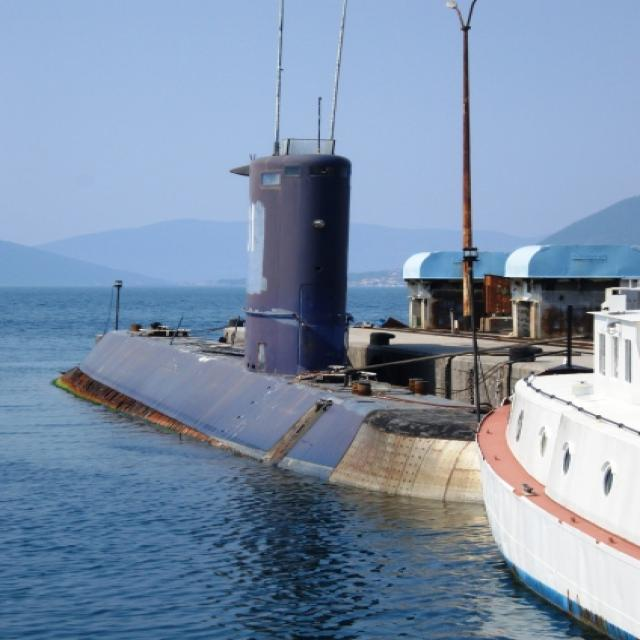submarine: (48, 157, 495, 504)
